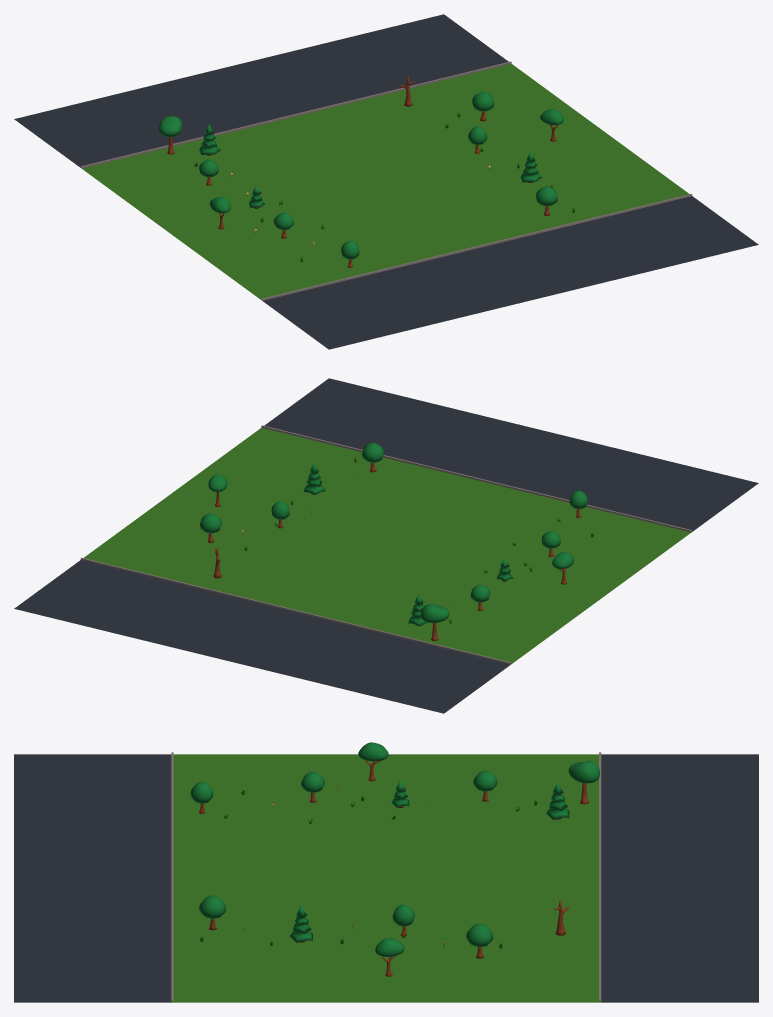
The model's file is Background.fbx.
The picture shows the model from 3 angles, top to bottom: view 1: azimuth 30°, elevation 25°; view 2: azimuth 150°, elevation 25°; view 3: azimuth 270°, elevation 25°; orthographic projection. The views are drawn at different scales.
Visible parts, largest first — view 1: Plane; view 2: Plane; view 3: Plane, Tree.007, Tree.012, Tree.002, Tree.011, Tree.006, Tree.010, Tree.003, Tree, Tree.009, Tree.001, Tree.004.
Part boxes in pixels (bbox=[...]): Plane: bbox=[14, 14, 758, 349]; Plane: bbox=[14, 378, 758, 713]; Plane: bbox=[14, 752, 758, 1002]; Tree.007: bbox=[568, 760, 600, 804]; Tree.012: bbox=[358, 742, 388, 781]; Tree.002: bbox=[199, 895, 226, 930]; Tree.011: bbox=[466, 923, 493, 958]; Tree.006: bbox=[375, 938, 404, 976]; Tree.010: bbox=[545, 781, 569, 819]; Tree.003: bbox=[289, 904, 312, 942]; Tree: bbox=[190, 781, 213, 813]; Tree.009: bbox=[473, 770, 497, 801]; Tree.001: bbox=[301, 772, 324, 802]; Tree.004: bbox=[392, 904, 414, 936].
Bounding box in the file's own units: 8000 × 620 × 10150.
